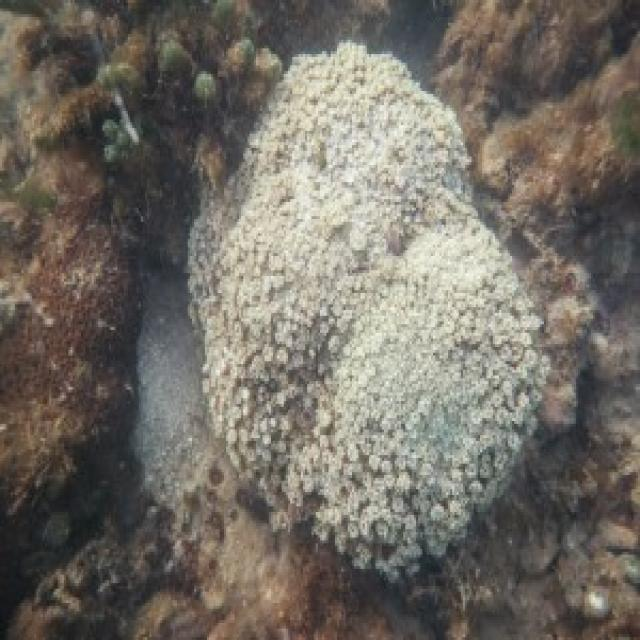Bleached: (189, 41, 549, 576)
